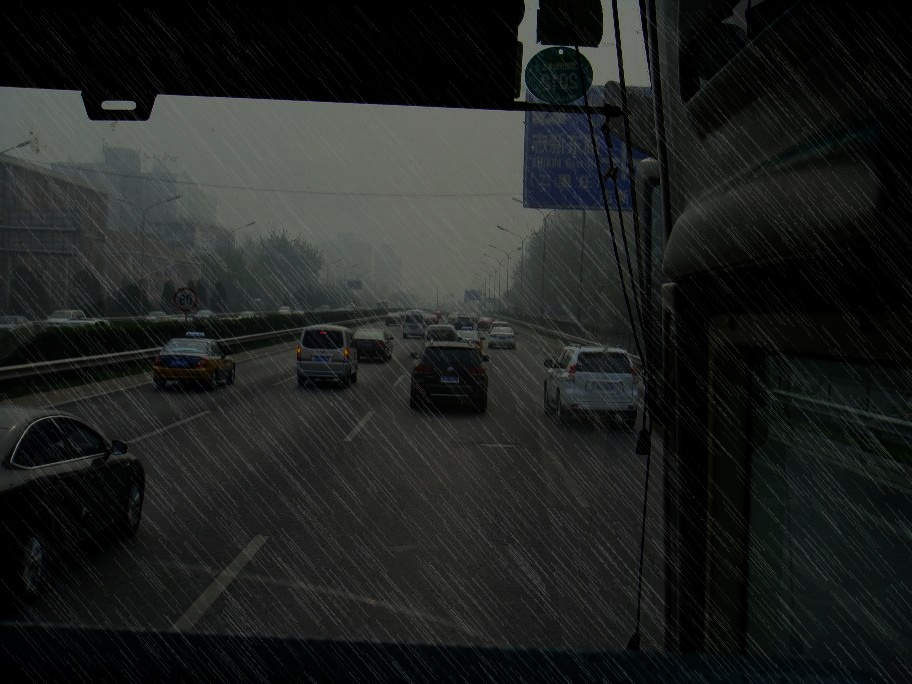Prohibitory Signs: (172, 286, 199, 313)
